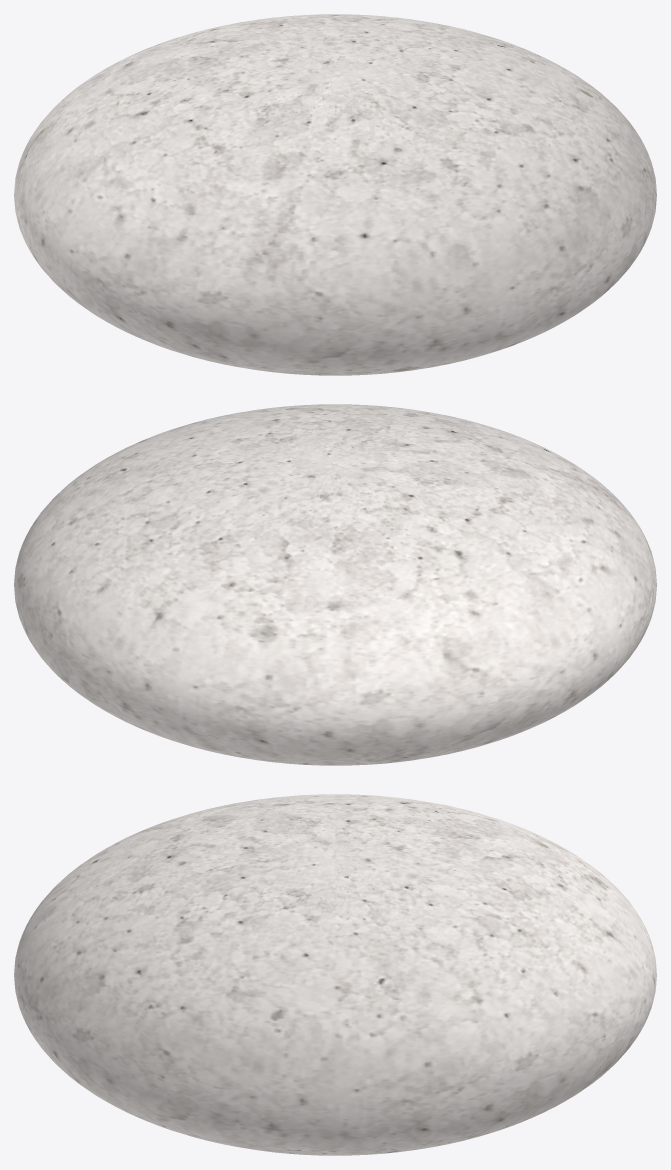
The model's file is go-stone-white.glb.
The picture shows the model from 3 angles, top to bottom: view 1: azimuth 30°, elevation 25°; view 2: azimuth 150°, elevation 25°; view 3: azimuth 270°, elevation 25°; orthographic projection.
Visible parts, largest first — view 1: go-stone-white; view 2: go-stone-white; view 3: go-stone-white.
Part boxes in pixels (box(x1,y1,x2,y2)): go-stone-white: box(14, 14, 656, 375); go-stone-white: box(14, 404, 656, 765); go-stone-white: box(14, 794, 656, 1155).
Size of the model in its own units: 0.022 by 0.009 by 0.022.
1 material, 1 textured.
